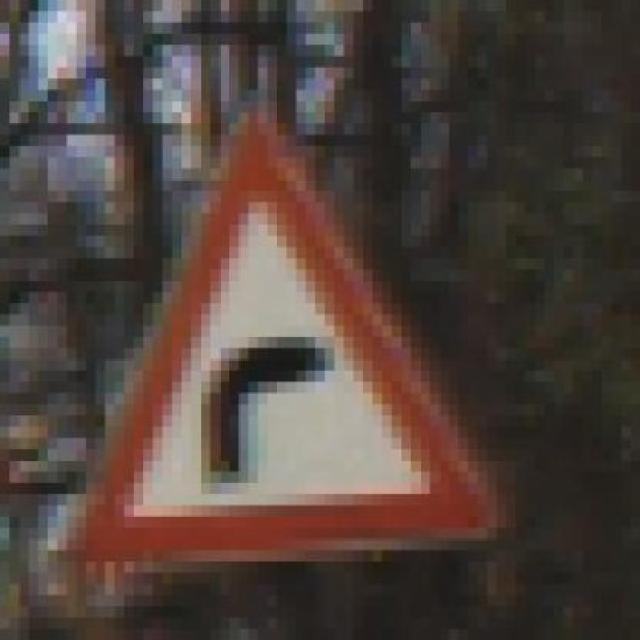Dangerous Rright Curve Ahead: (67, 101, 516, 573)
